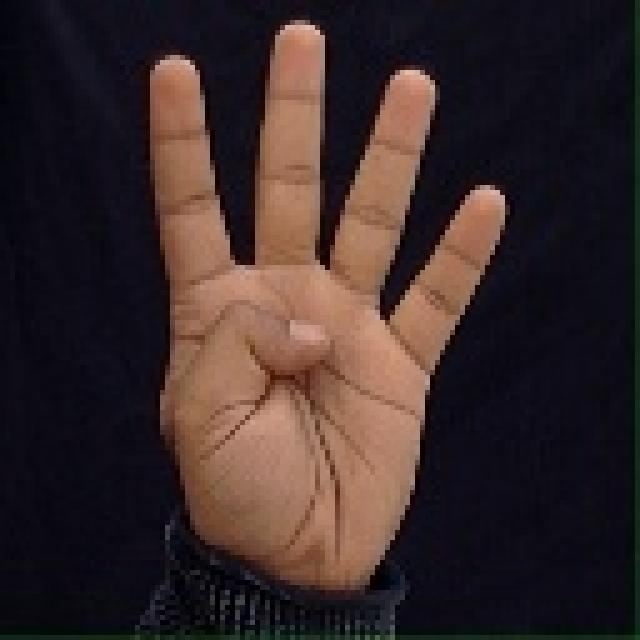Numeric-4: (146, 23, 508, 590)
